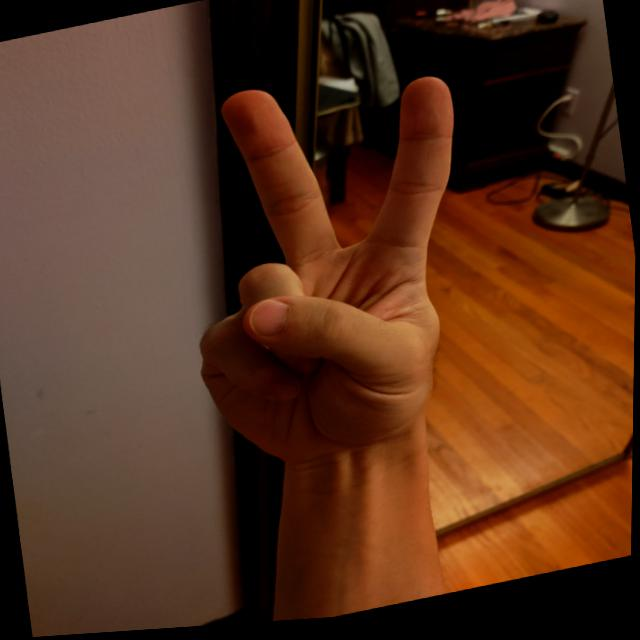V: (156, 46, 509, 494)
